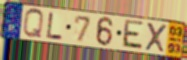6: (95, 16, 115, 48)
7: (73, 15, 92, 43)
E: (120, 19, 145, 52)
L: (45, 11, 64, 41)
Q: (22, 8, 45, 40)
X: (143, 21, 168, 54)
